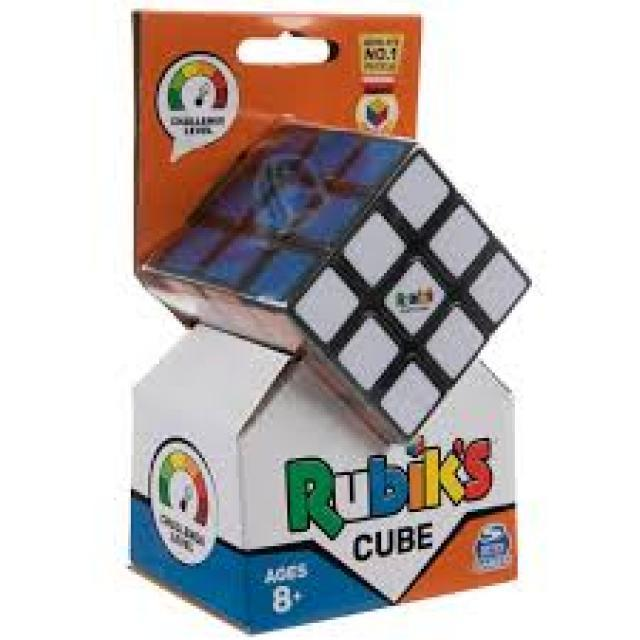Rub: (156, 116, 532, 442)
